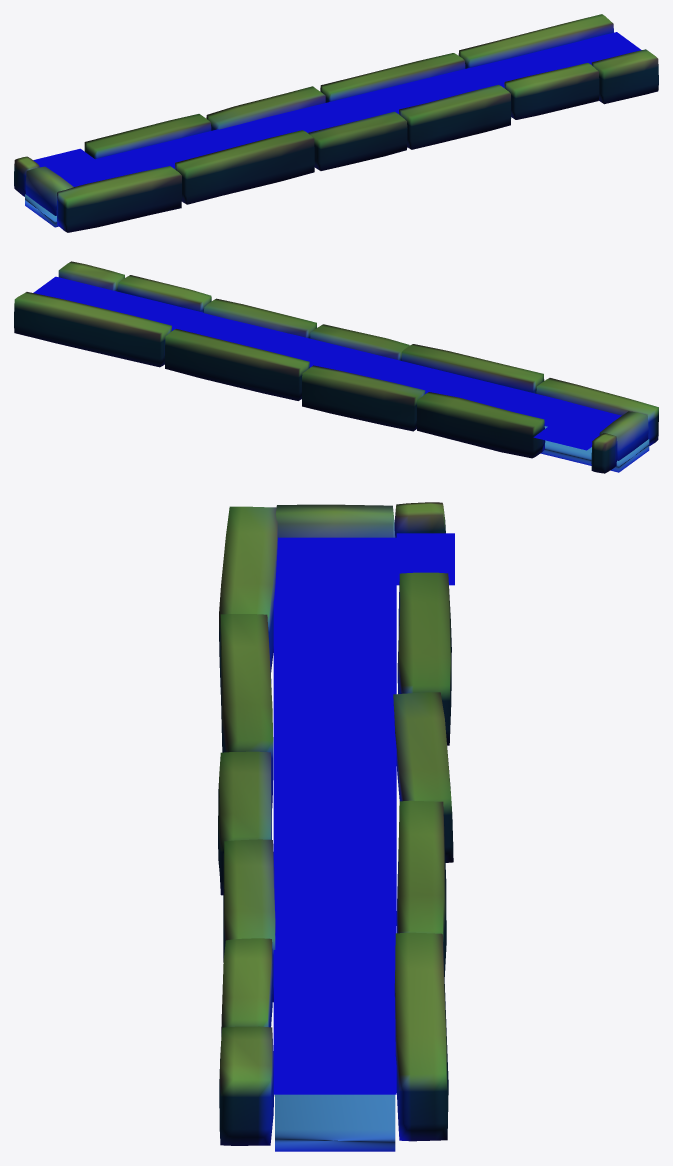
Rendered from terrace_channel_inlet_r.glb.
3 renders of one model, top to bottom at view 1: azimuth 30°, elevation 25°; view 2: azimuth 150°, elevation 25°; view 3: azimuth 270°, elevation 25°, orthographic. The views are drawn at different scales.
Visible parts, largest first — view 1: terrace_channel_inlet_r; view 2: terrace_channel_inlet_r; view 3: terrace_channel_inlet_r.
Part boxes in pixels (x1=…): terrace_channel_inlet_r: x1=14, y1=14, x2=658, y2=232; terrace_channel_inlet_r: x1=14, y1=261, x2=658, y2=473; terrace_channel_inlet_r: x1=218, y1=502, x2=454, y2=1151.
Size of what is drawn, in the model's own units: 4 by 0.2519 by 0.6921.
